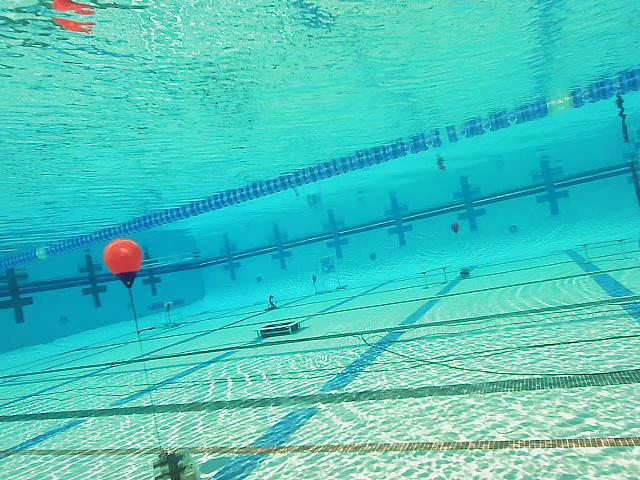buoy: (105, 239, 143, 290)
